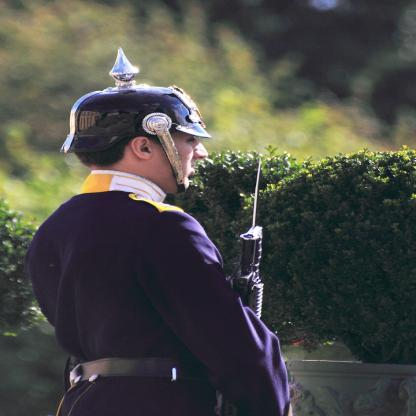Helmet: (55, 62, 214, 204)
